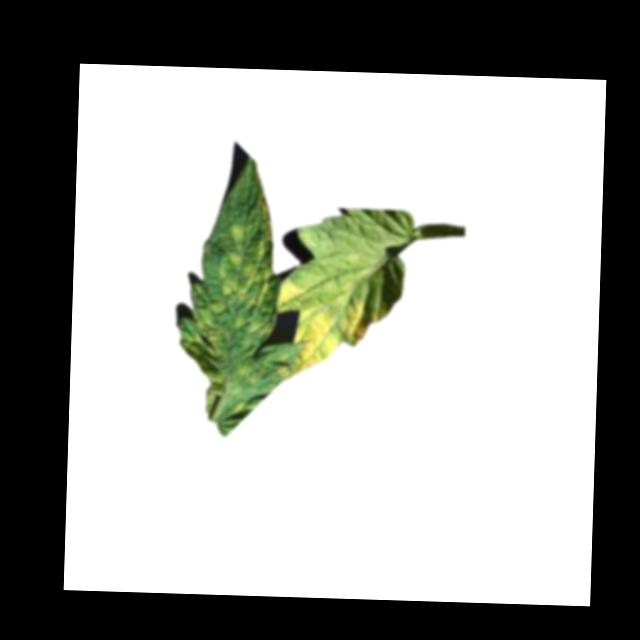Leaf_Mold: (190, 189, 280, 338), (275, 272, 387, 383), (178, 316, 232, 416)
